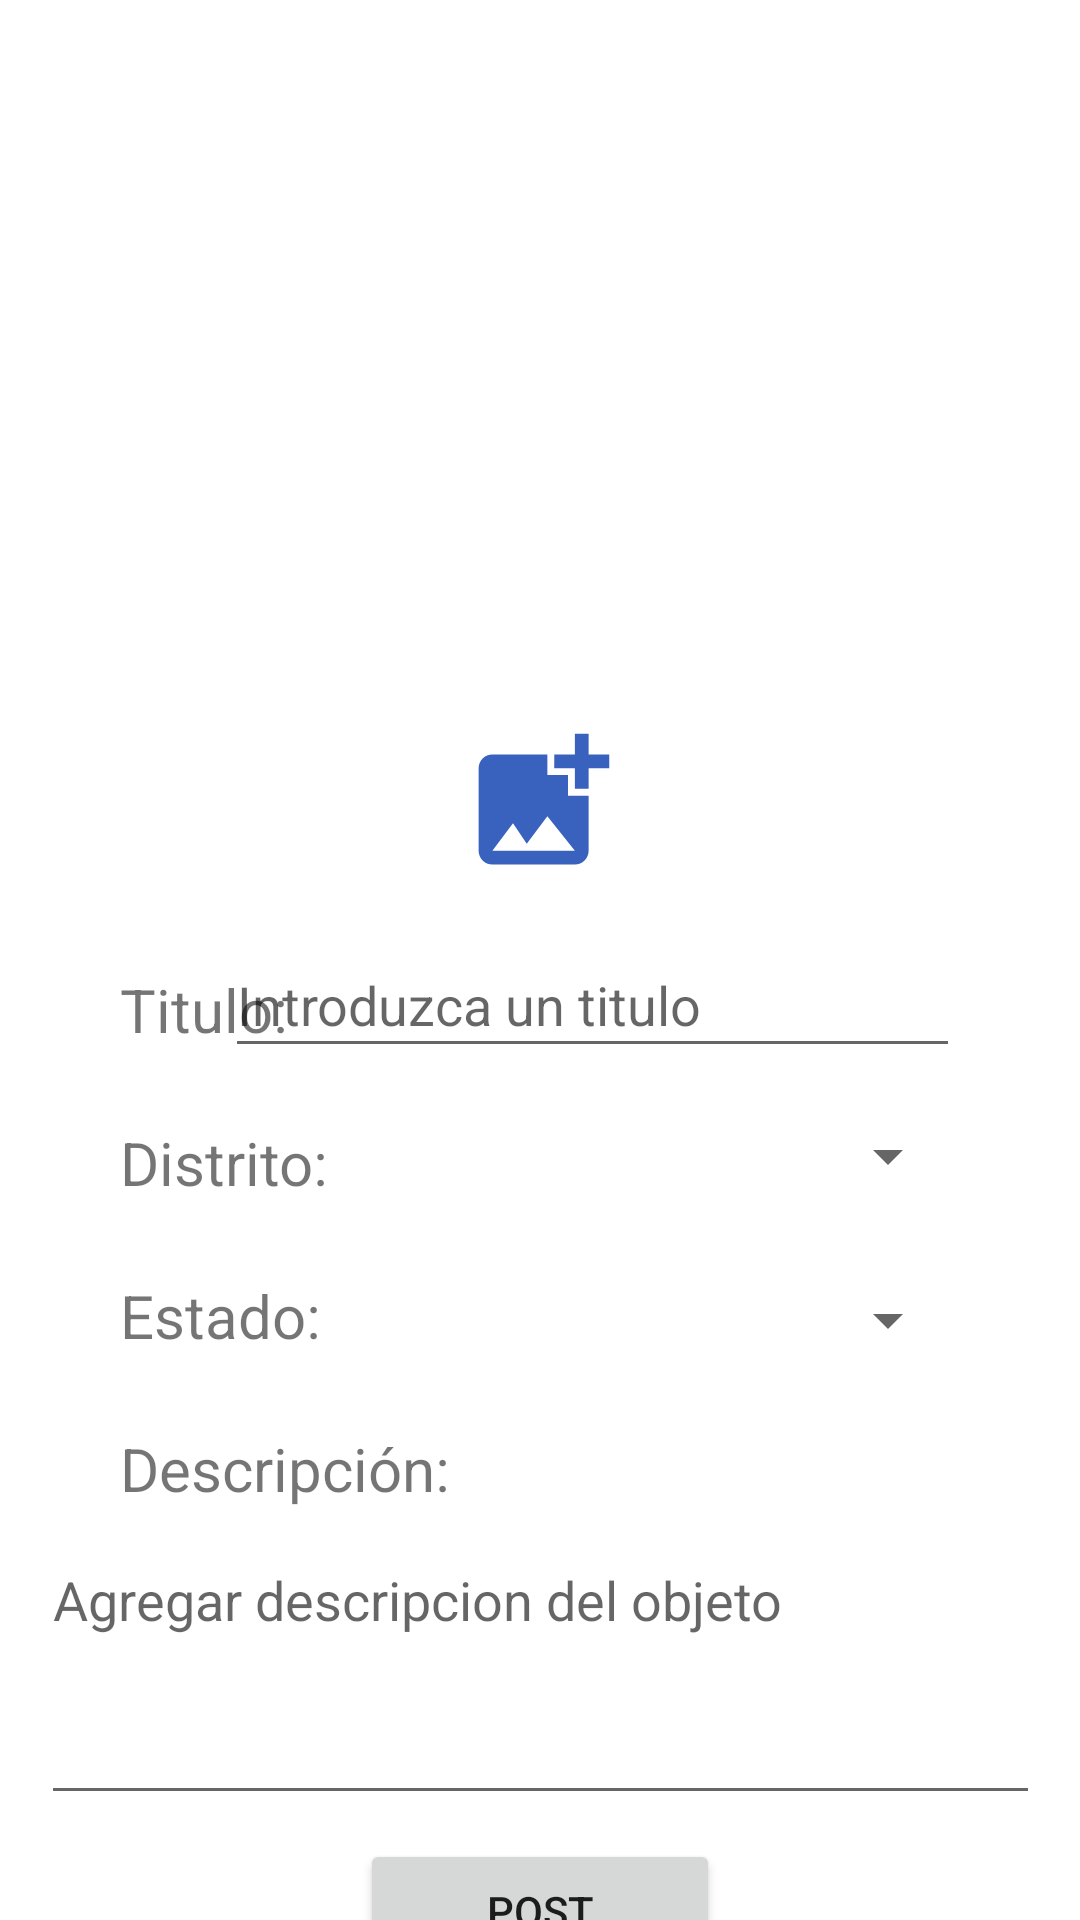

Icon bounding boxes for this 1080px x 1920px phone screenshot, format (x1, y1, x2, y2):
add photo alternate: (478, 733, 610, 865)
